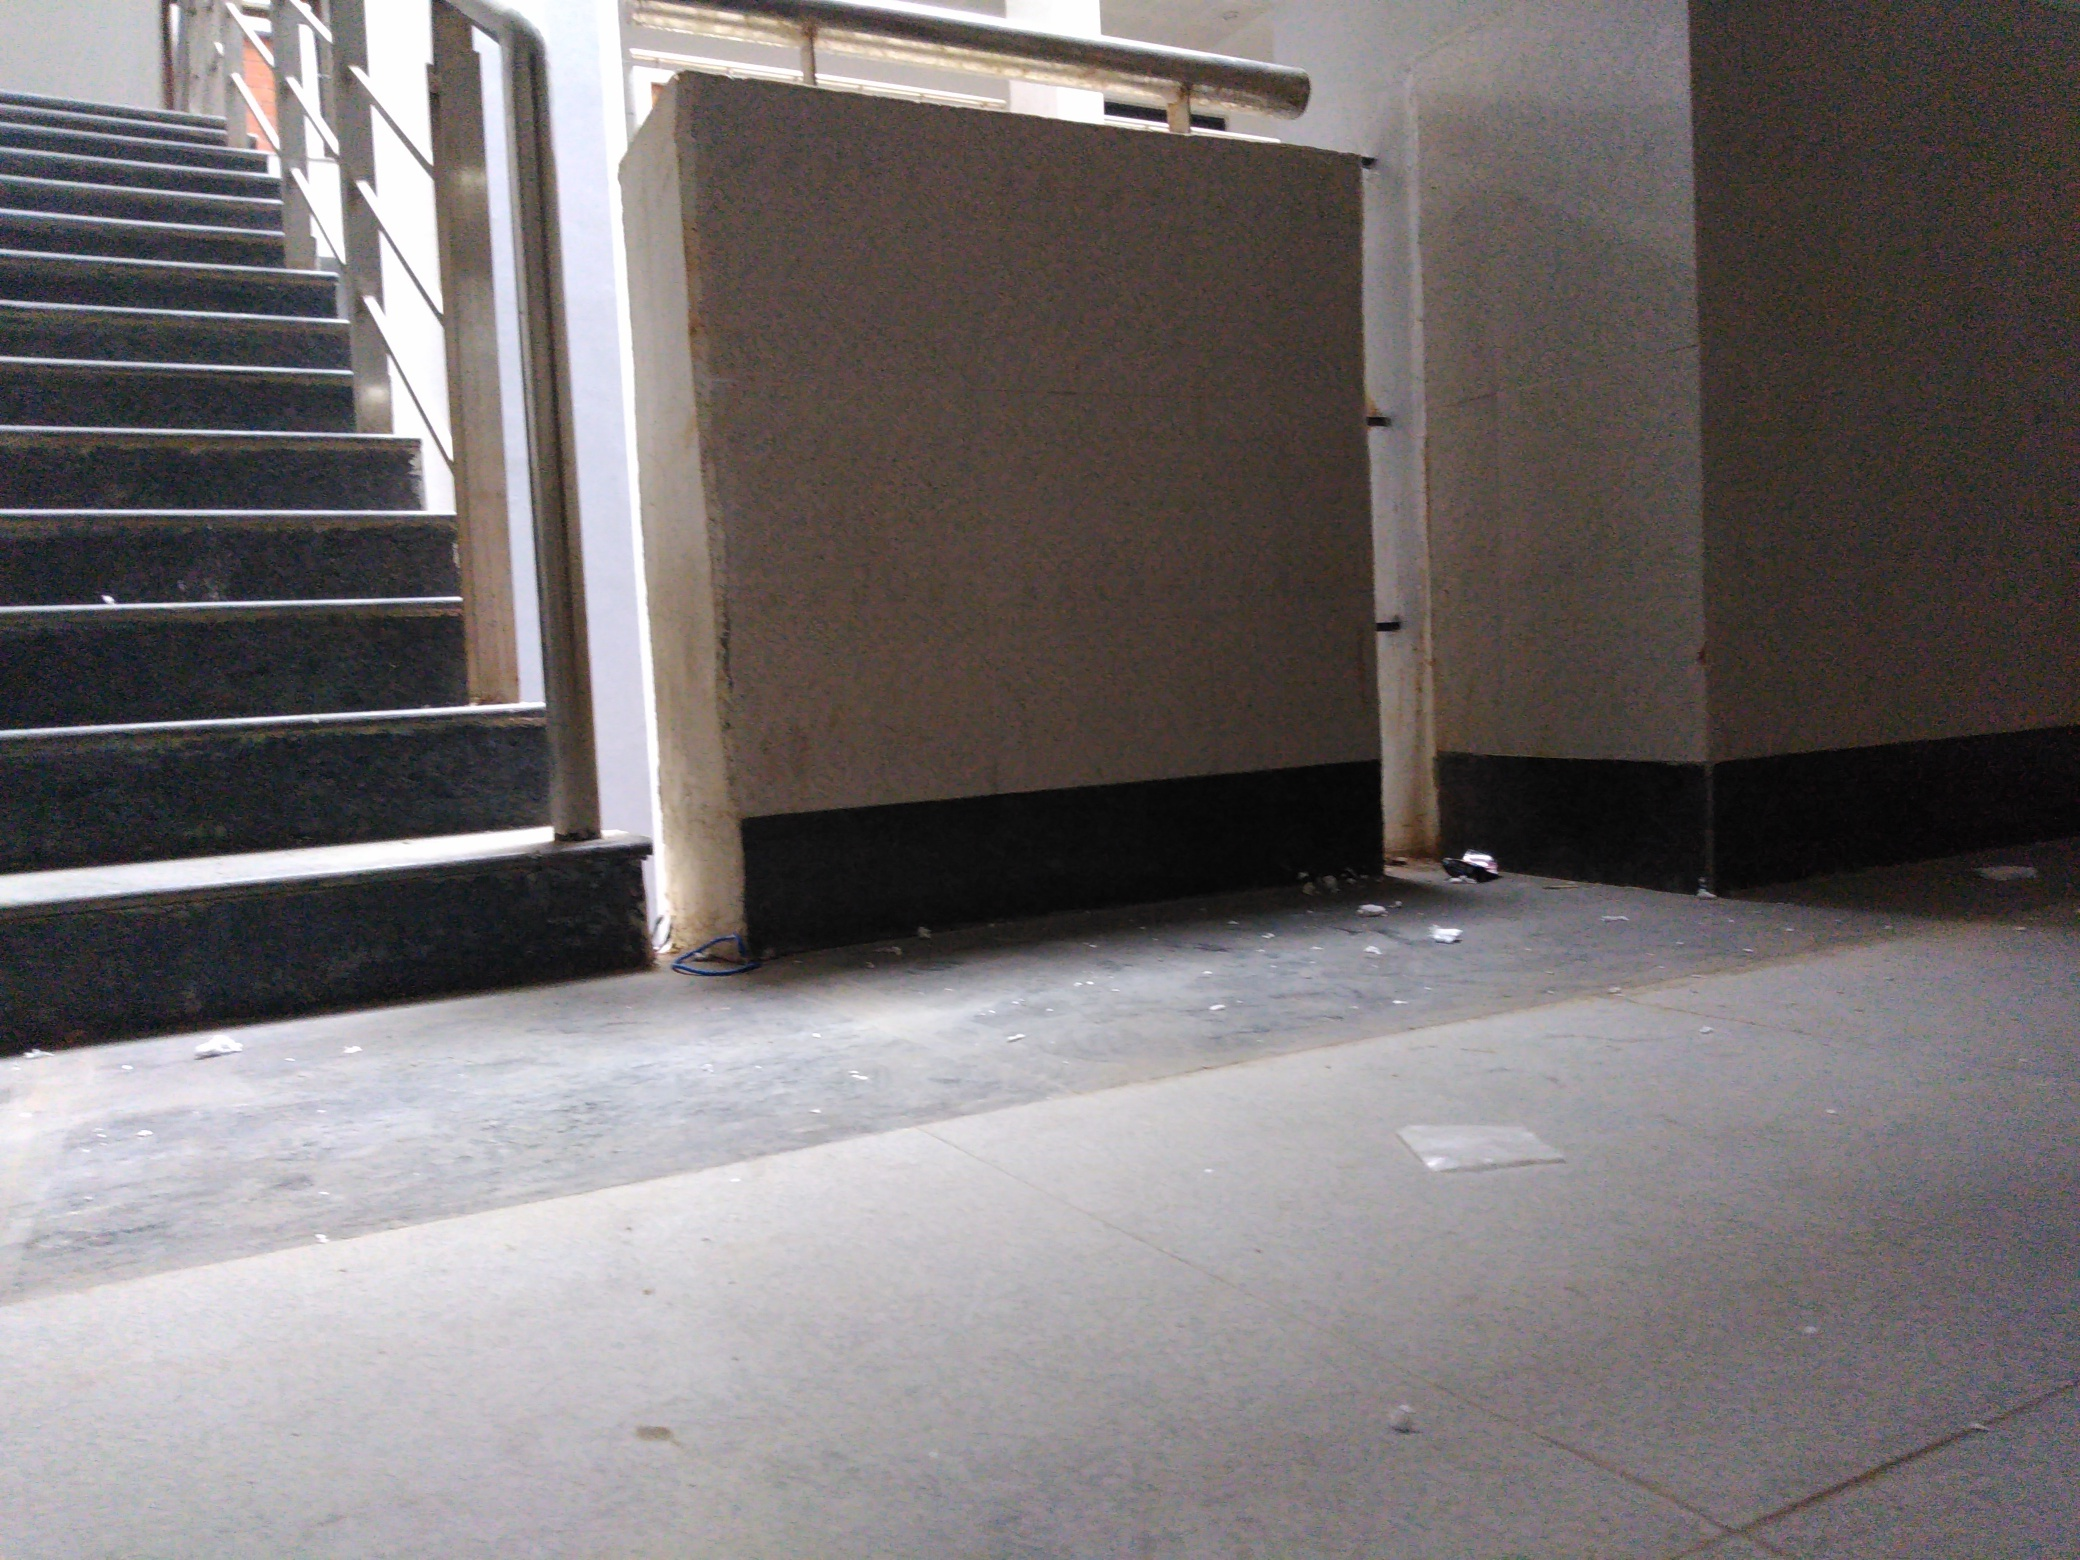stairs_up: (8, 93, 632, 1054)
